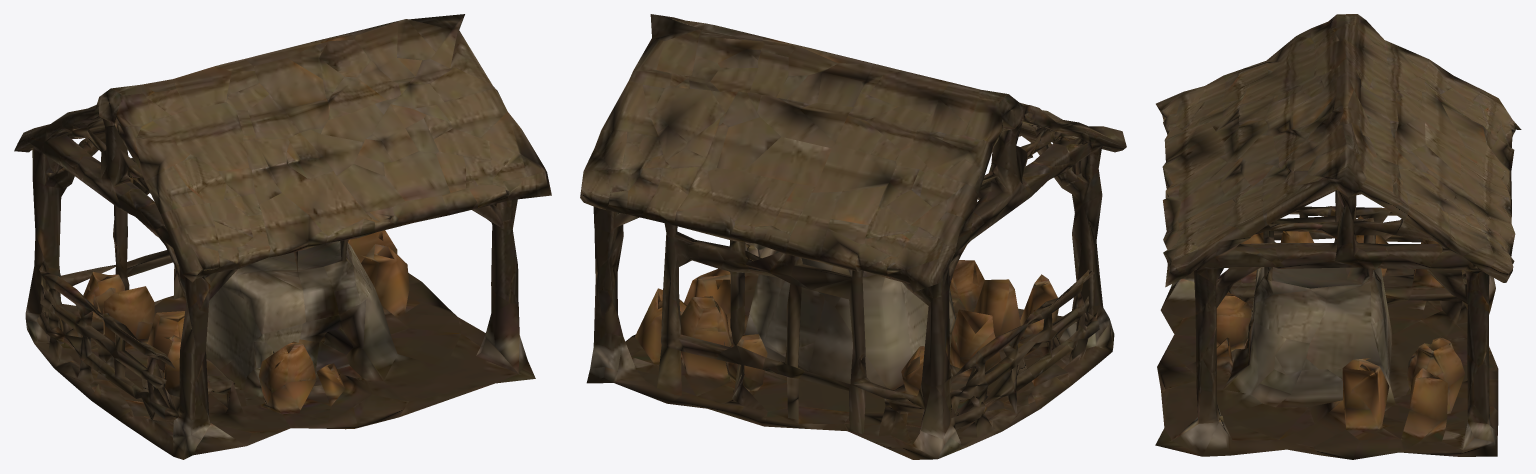
File: bq_pottery.lod1.glb
3 renders of one model, left to right at view 1: azimuth 30°, elevation 25°; view 2: azimuth 150°, elevation 25°; view 3: azimuth 270°, elevation 25°, orthographic. The views are drawn at different scales.
Visible parts, largest first — view 1: mesh_node; view 2: mesh_node; view 3: mesh_node.
Part boxes in pixels (left/top/right/bottom): mesh_node: left=14, top=14, right=551, bottom=459; mesh_node: left=580, top=14, right=1126, bottom=459; mesh_node: left=1155, top=14, right=1521, bottom=459.
Size of the model in its own units: 1.9 by 1.46 by 1.66.
Materials: 1 (1 with a texture image).
